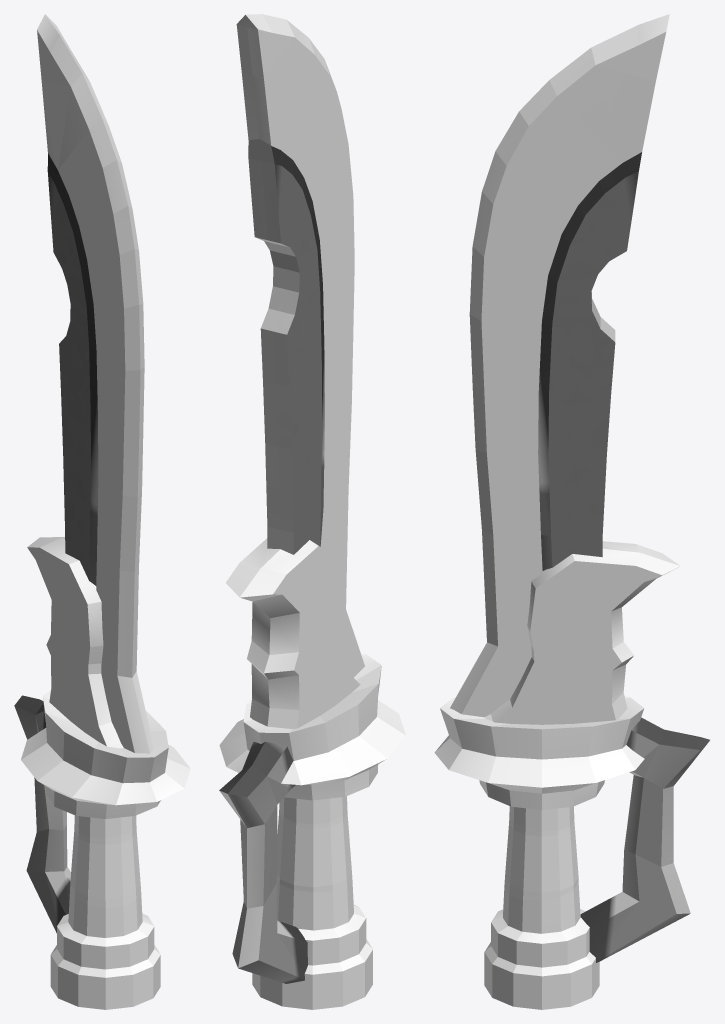
The picture shows the model from 3 angles, left to right: view 1: azimuth 30°, elevation 25°; view 2: azimuth 150°, elevation 25°; view 3: azimuth 270°, elevation 25°; orthographic projection. The views are drawn at different scales.
Visible parts, largest first — view 1: Weap_group1Weap2; view 2: Weap_group1Weap2; view 3: Weap_group1Weap2.
Part boxes in pixels (<box>): Weap_group1Weap2: <box>14,14,190,1009</box>; Weap_group1Weap2: <box>219,14,405,1009</box>; Weap_group1Weap2: <box>434,14,709,1009</box>.
Bounding box in the file's own units: 1.85 × 12.12 × 3.1.
